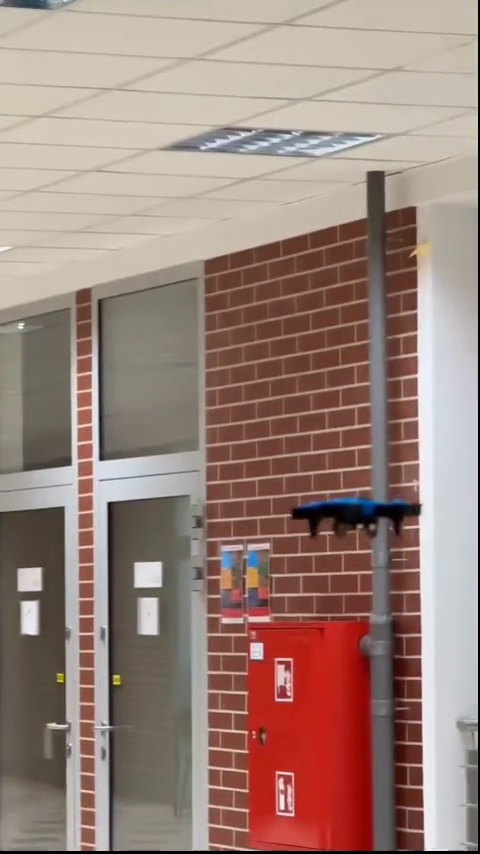drone: (290, 493, 422, 540)
